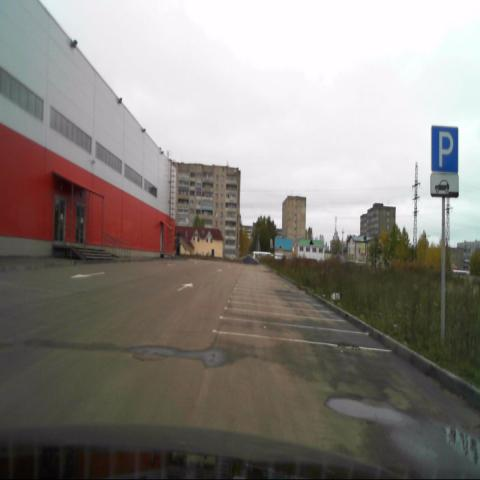8_6_4: (431, 173, 459, 196)
